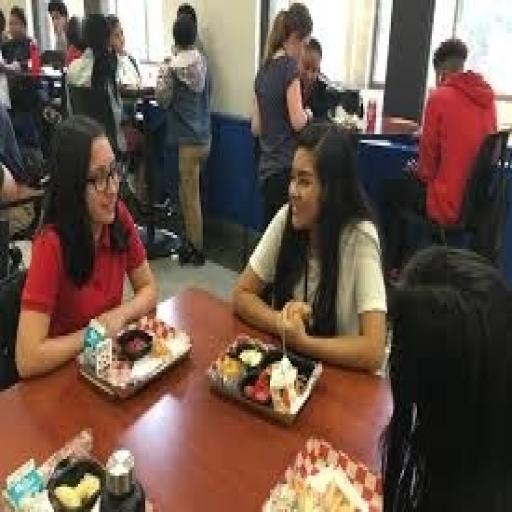eating: (13, 112, 158, 378)
